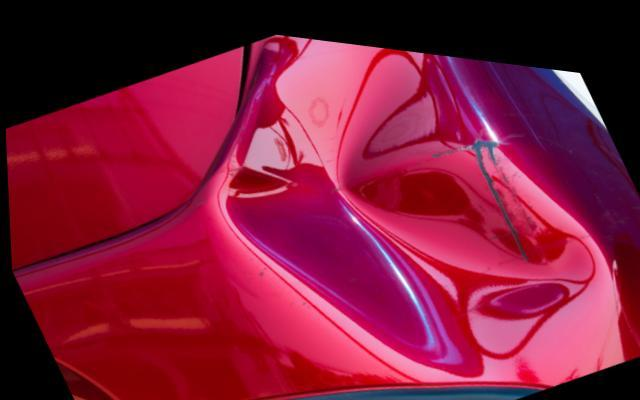dent: (219, 40, 583, 364)
